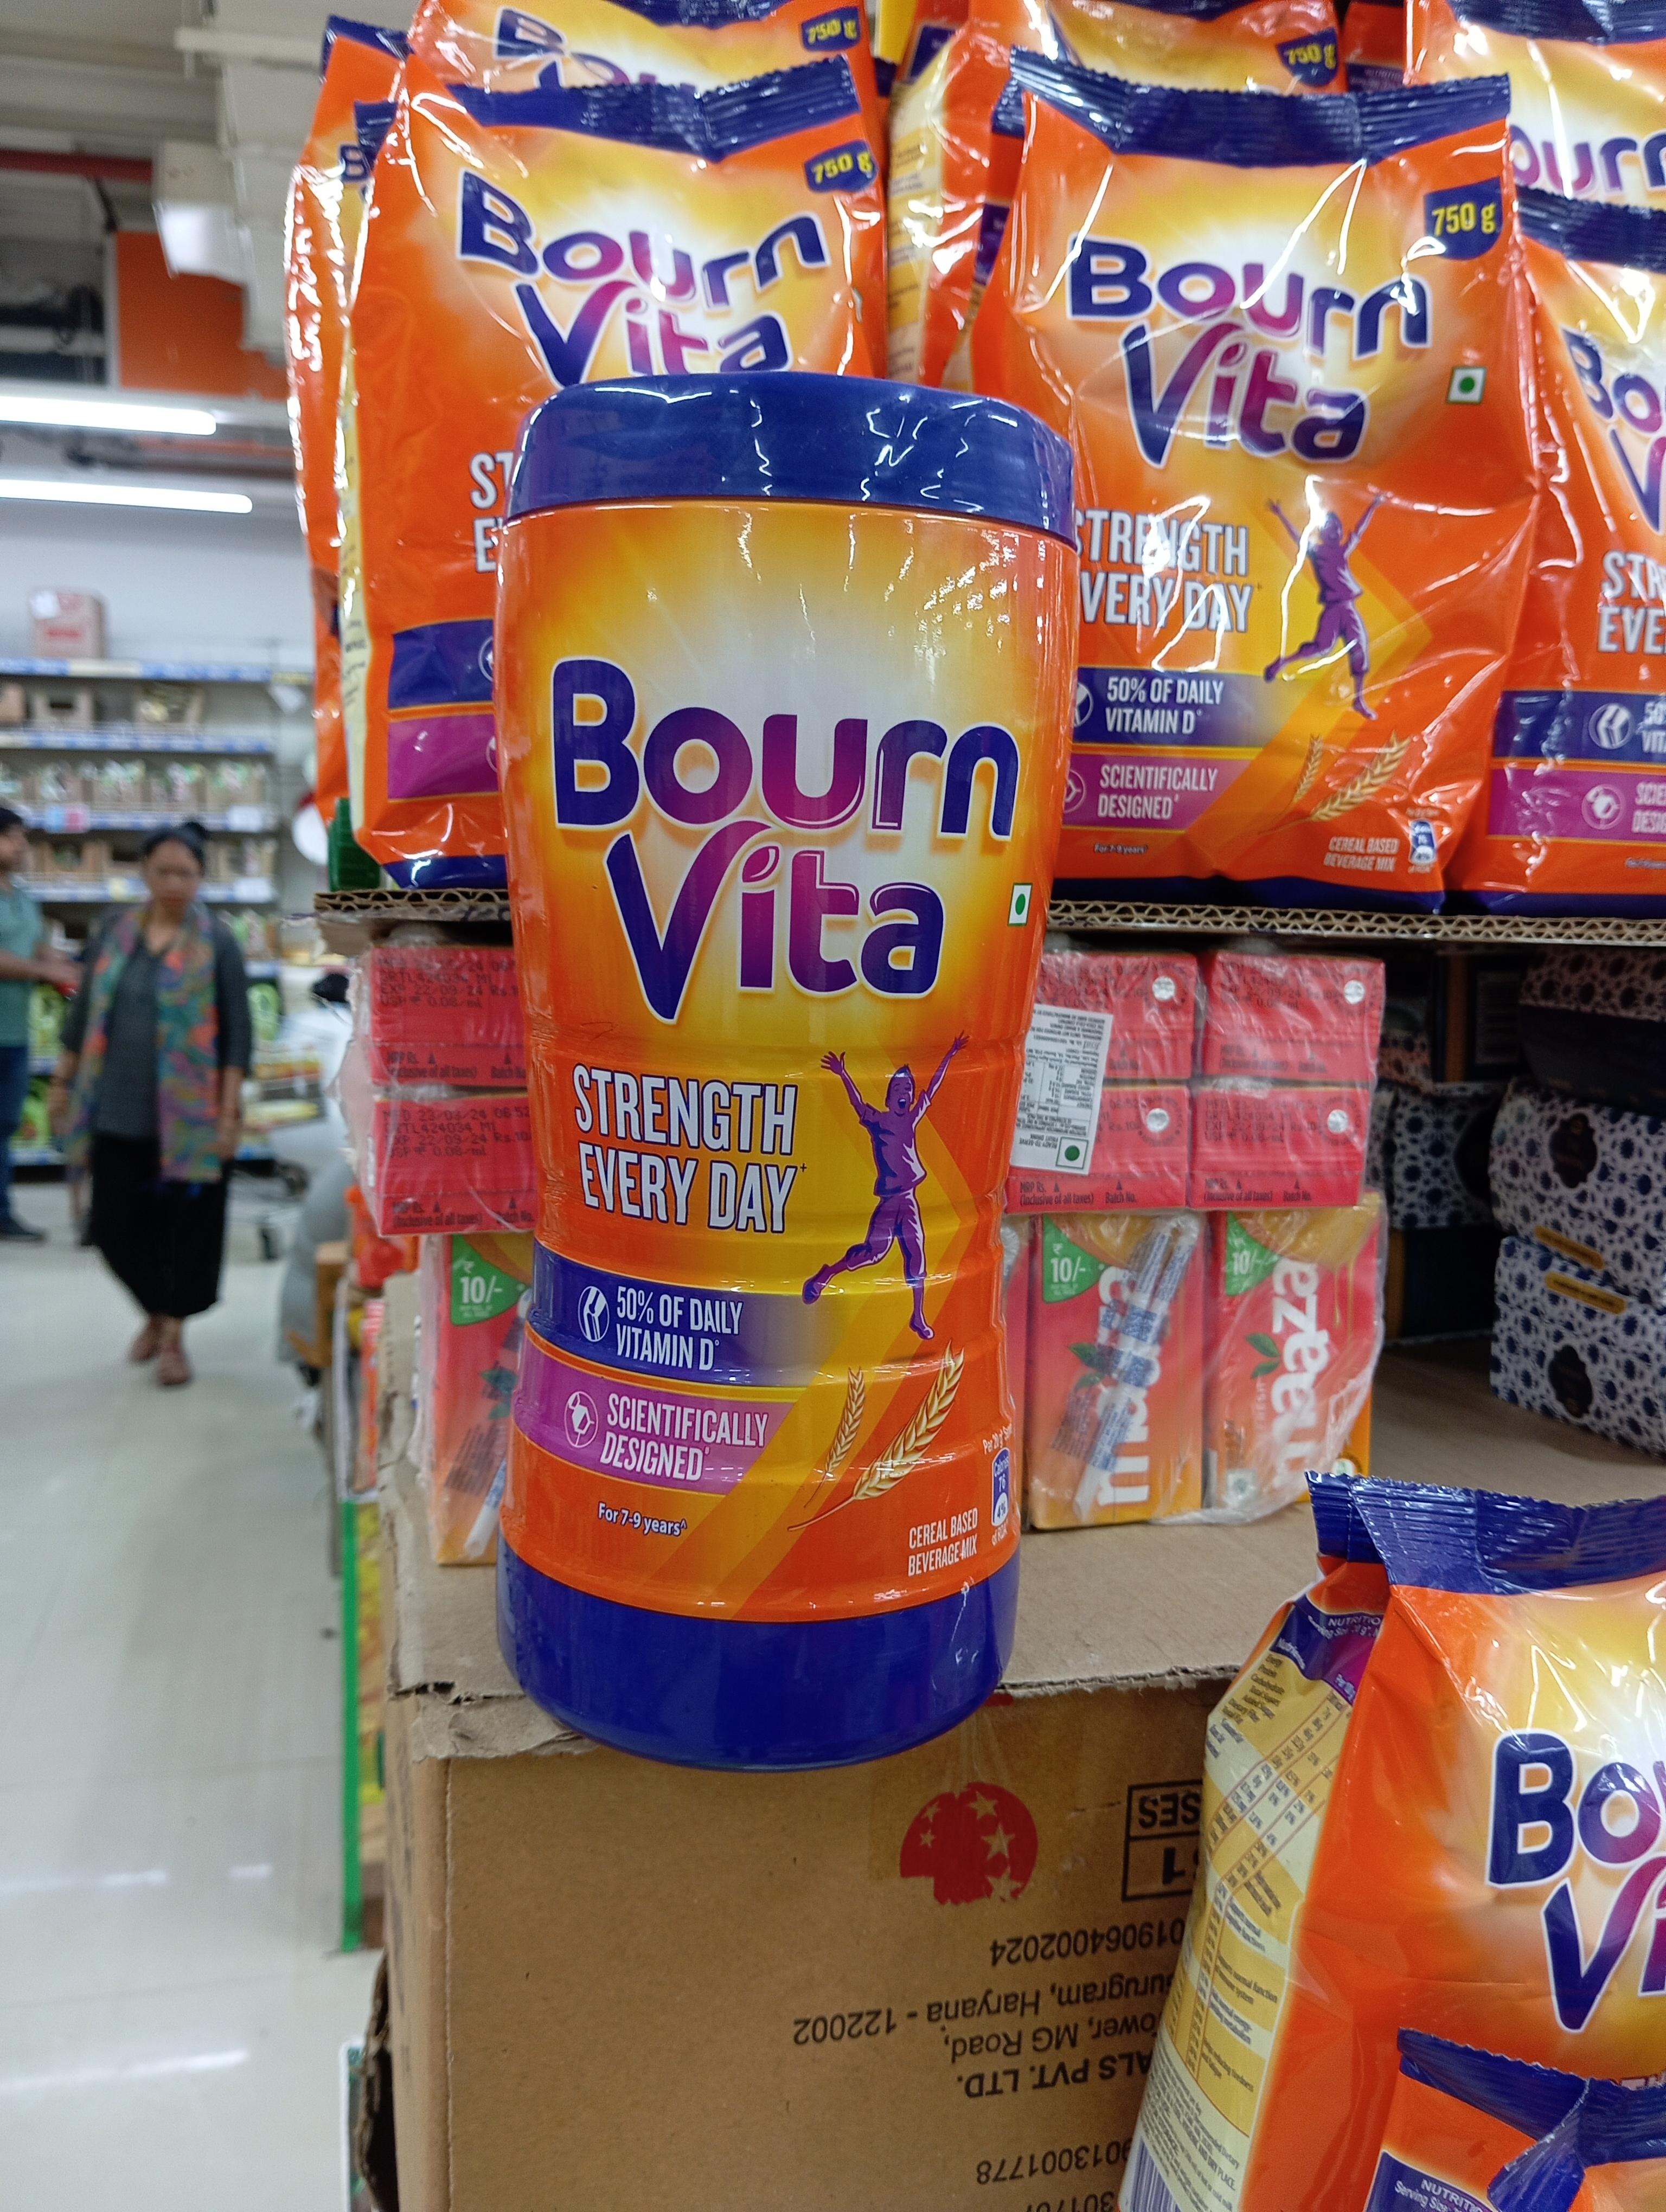BOURN_VITA_1_KG_JAR: (494, 358, 1041, 1757)
